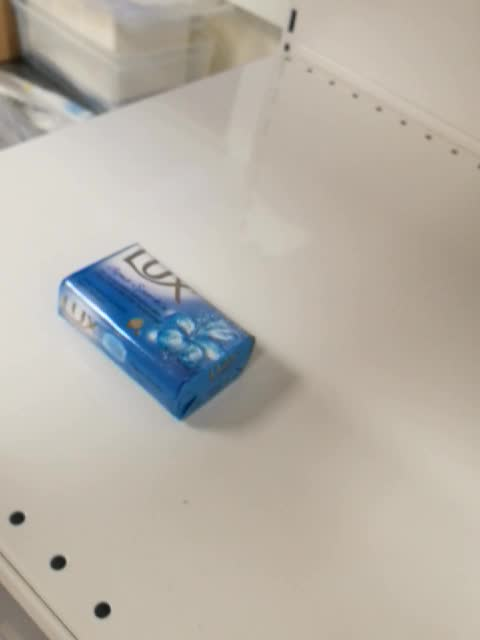soap: (57, 241, 257, 423)
